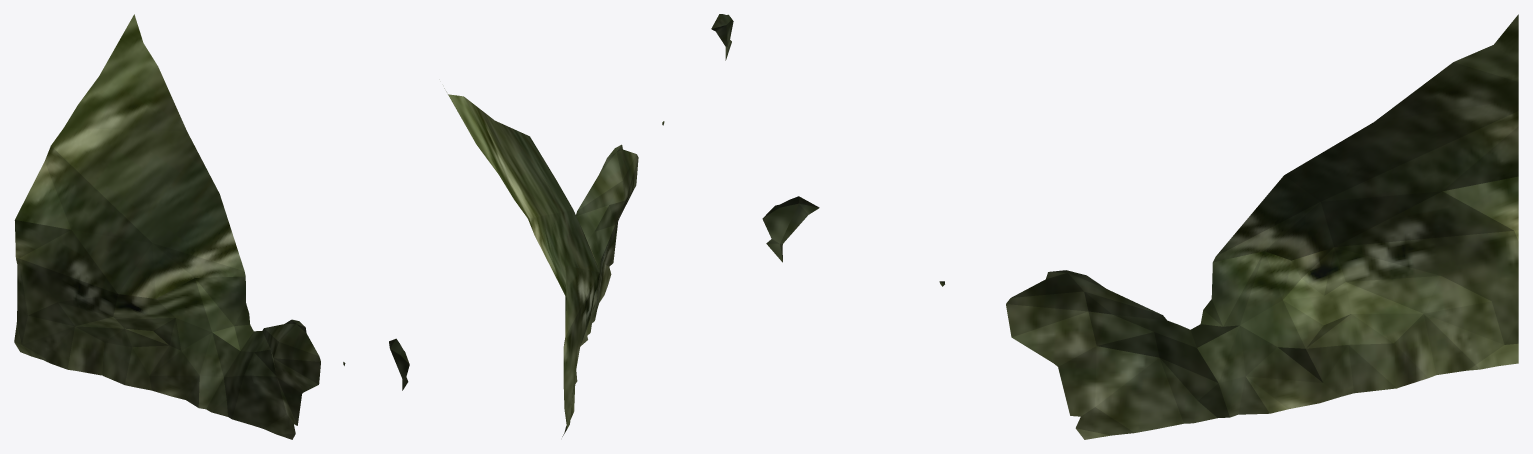
3 renders of one model, left to right at view 1: azimuth 30°, elevation 25°; view 2: azimuth 150°, elevation 25°; view 3: azimuth 270°, elevation 25°, orthographic. The views are drawn at different scales.
Bounding box in the file's own units: 0.7022 × 1.73 × 2.79.
1 material, 1 textured.
